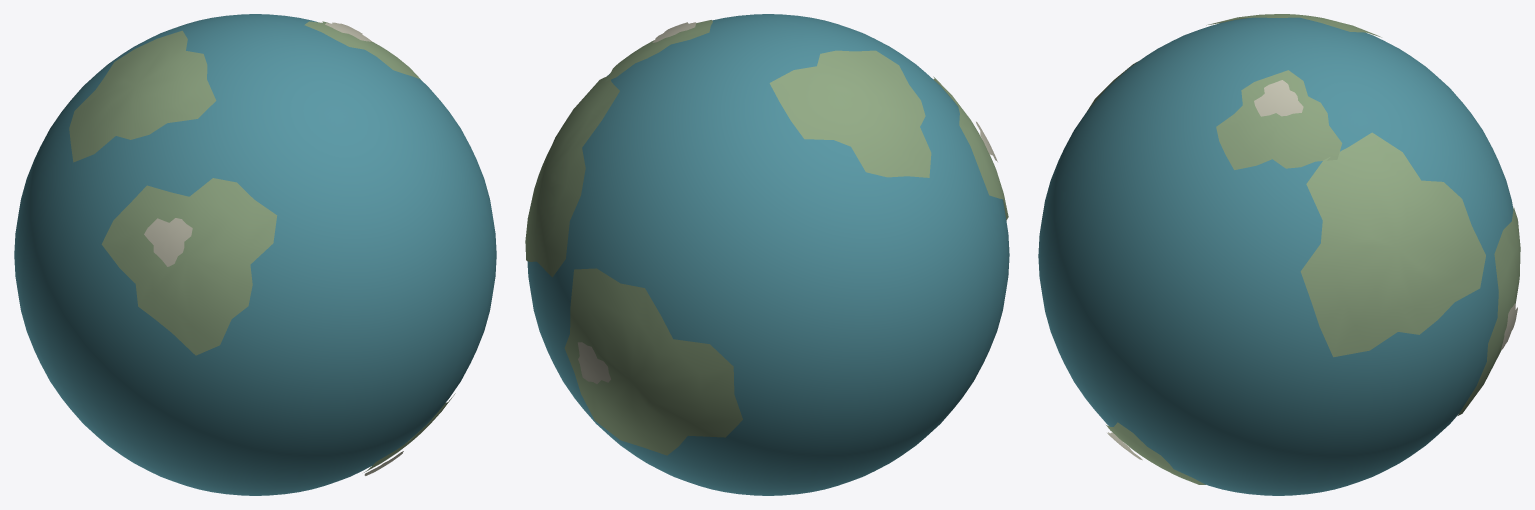
The model's file is planet_00.glb.
The picture shows the model from 3 angles, left to right: view 1: azimuth 30°, elevation 25°; view 2: azimuth 150°, elevation 25°; view 3: azimuth 270°, elevation 25°; orthographic projection.
Visible parts, largest first — view 1: planet_00_painted_mesh; view 2: planet_00_painted_mesh; view 3: planet_00_painted_mesh.
Part boxes in pixels (x1=…): planet_00_painted_mesh: x1=14, y1=14, x2=496, y2=495; planet_00_painted_mesh: x1=525, y1=14, x2=1009, y2=495; planet_00_painted_mesh: x1=1038, y1=14, x2=1520, y2=495.
Bounding box in the file's own units: 2 × 2 × 2.01.
